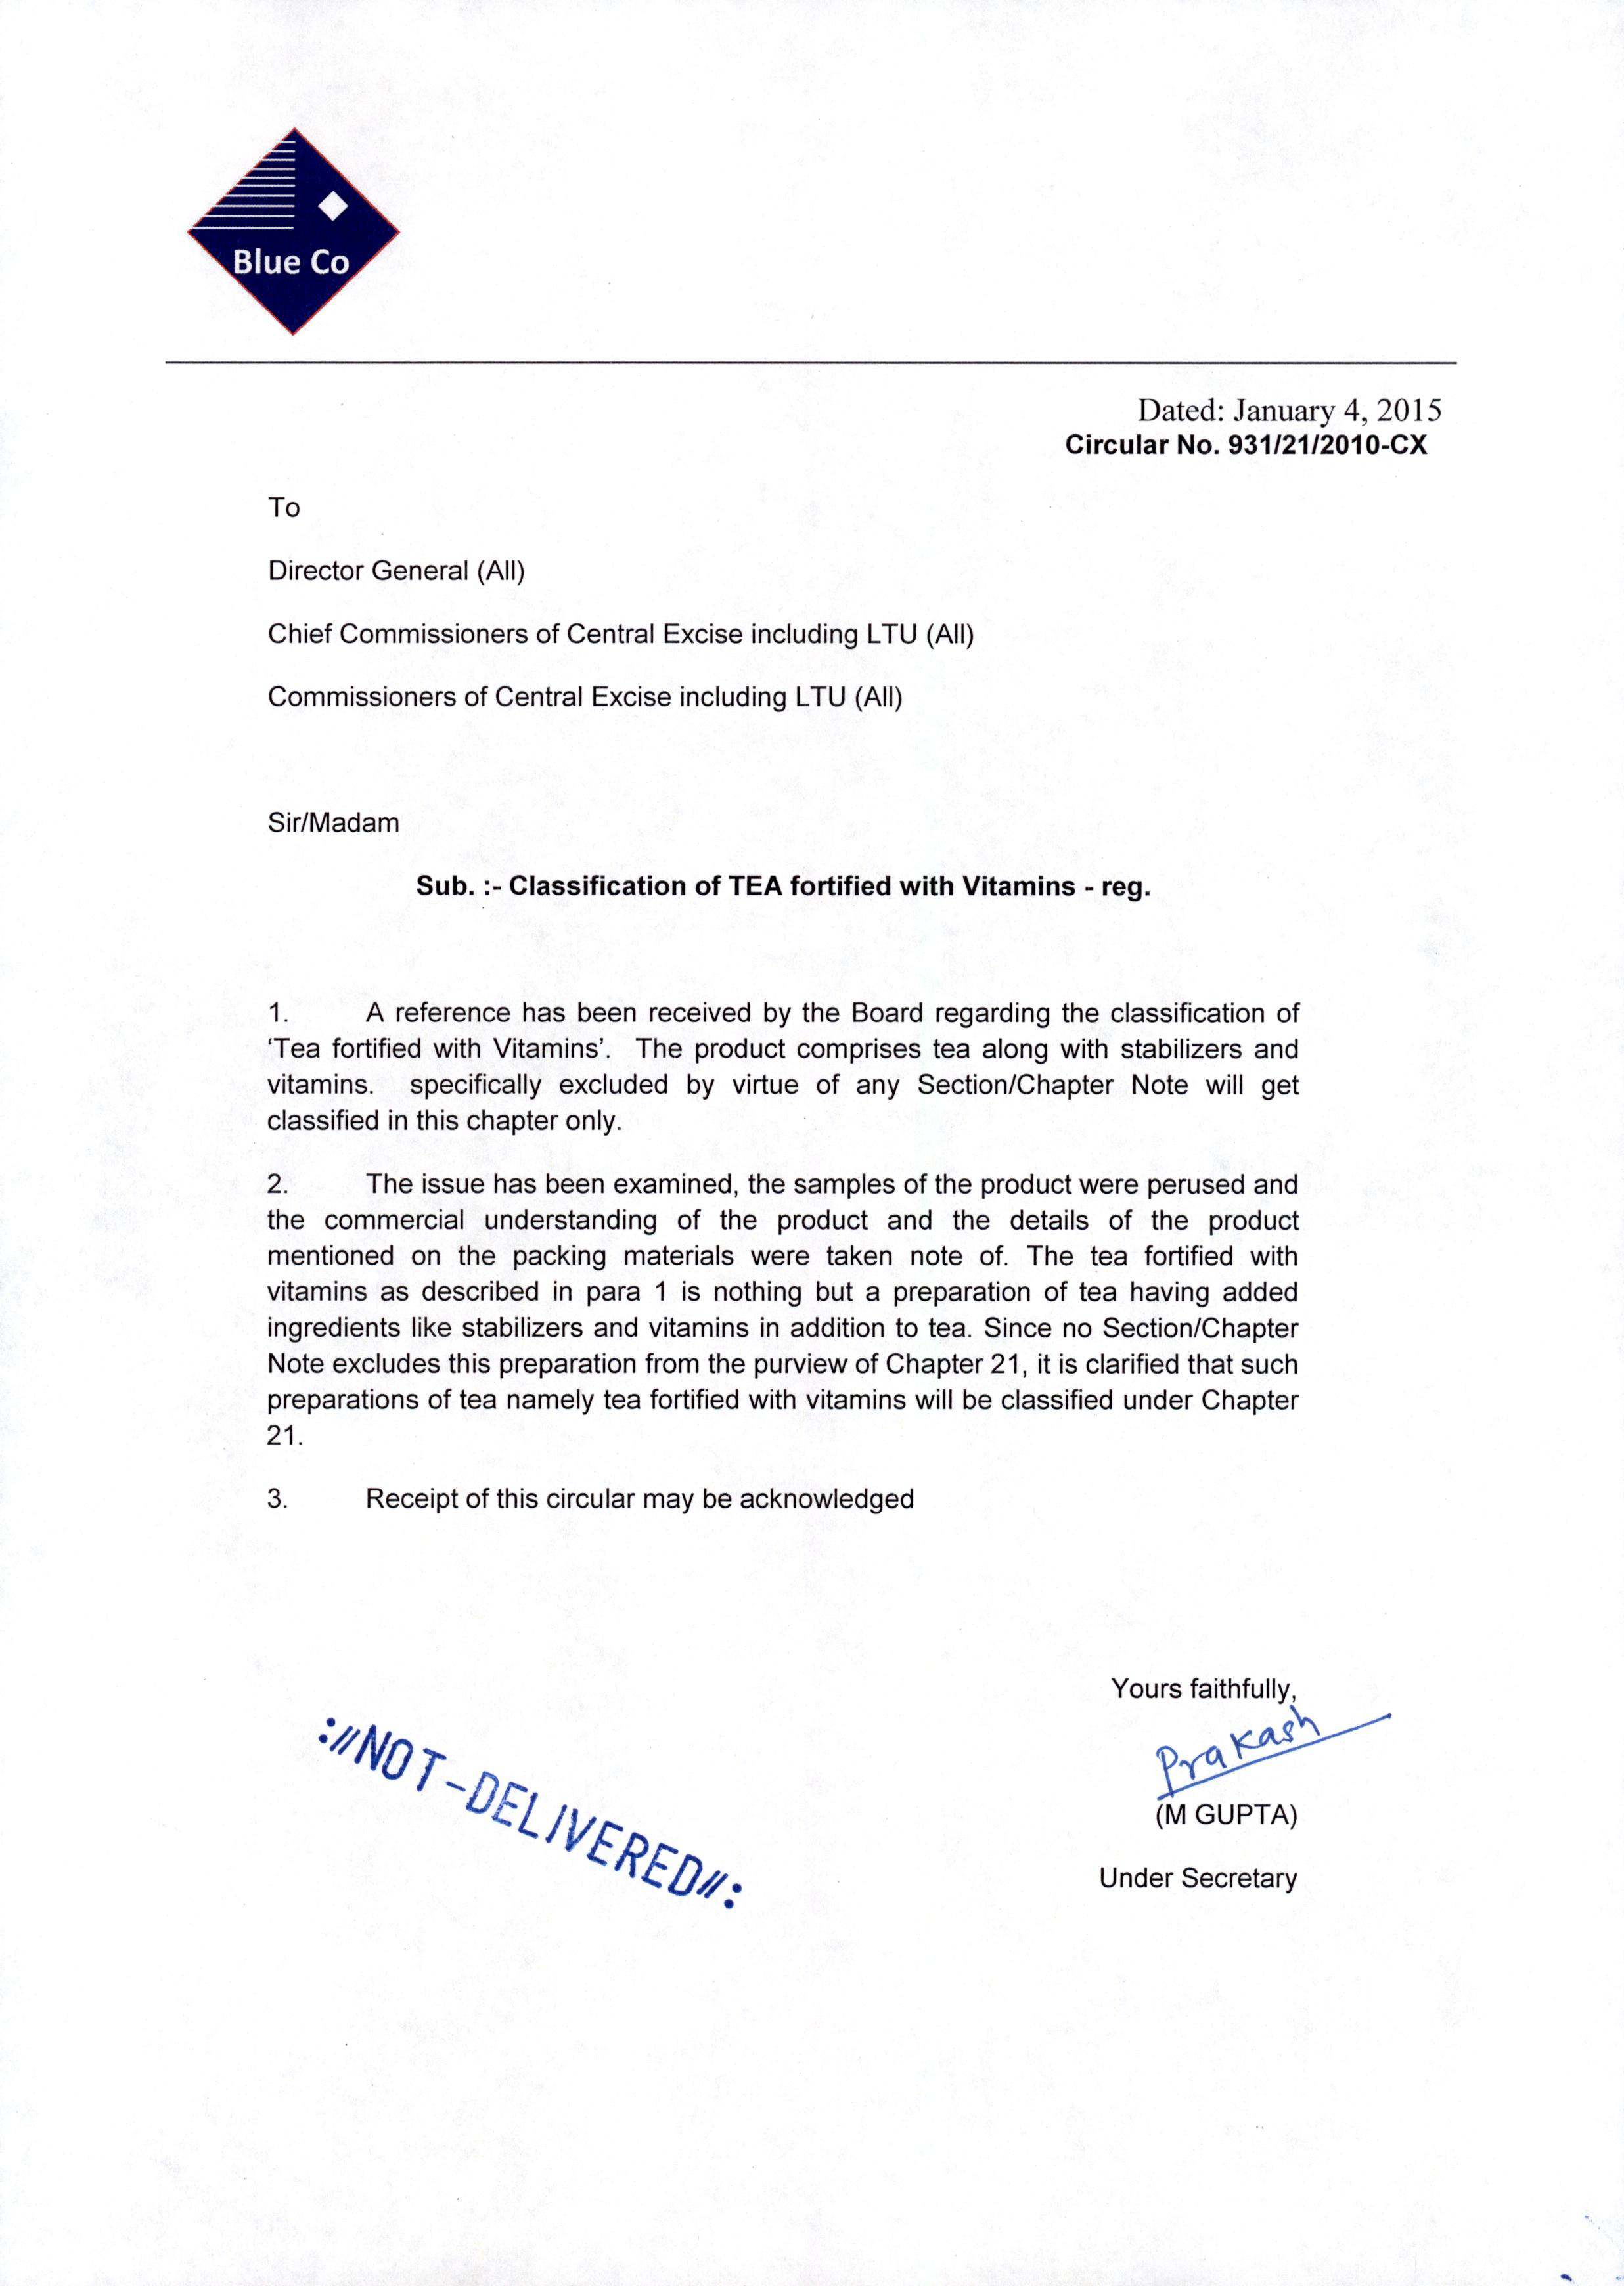Signature: (1151, 1701, 1350, 1803)
